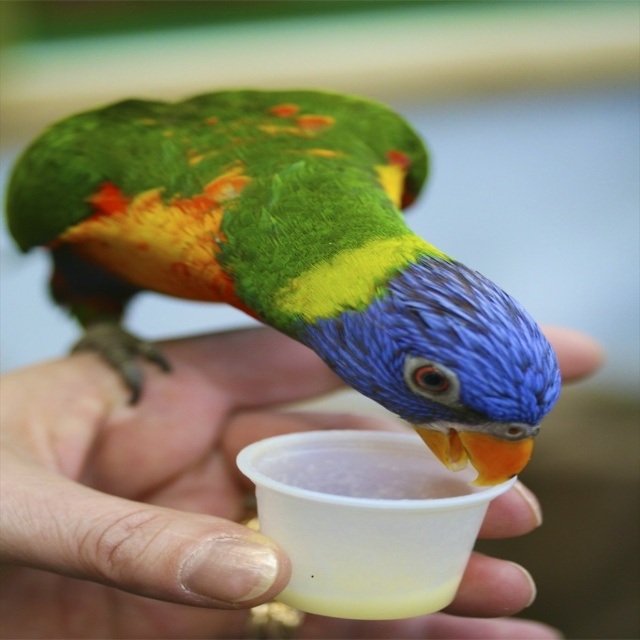Parrot: (5, 89, 560, 486)
